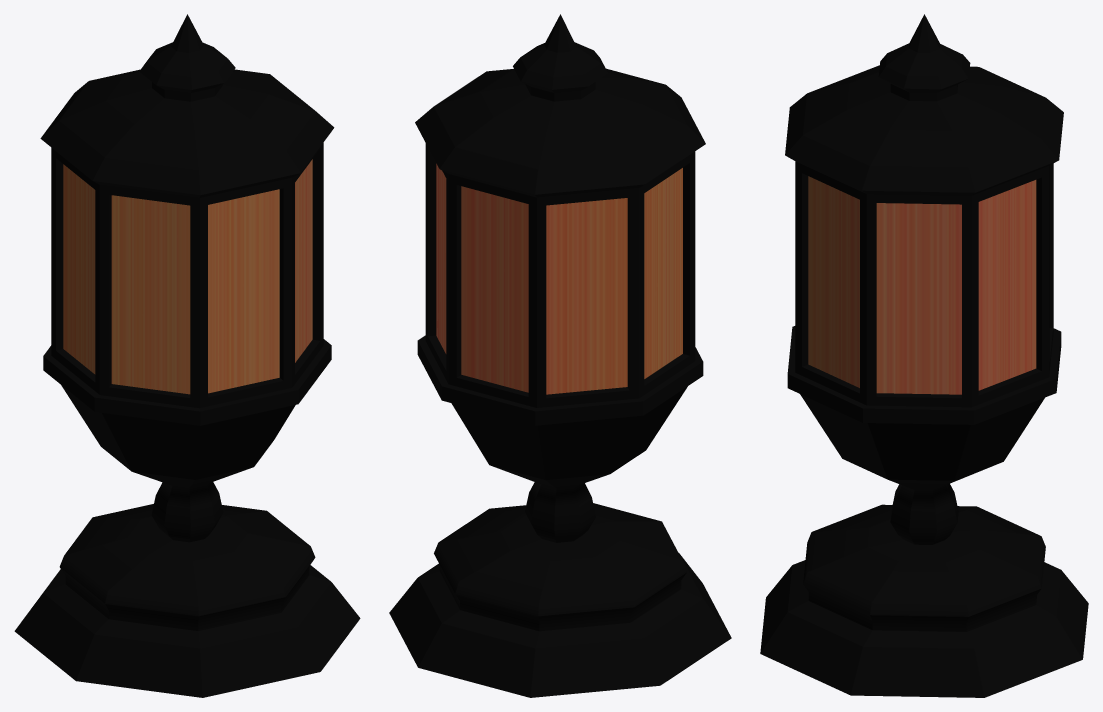
File: Spooky_Tower_Lantern_Art.glb
3 views of the same model, side by side, from view 1: azimuth 30°, elevation 25°; view 2: azimuth 150°, elevation 25°; view 3: azimuth 270°, elevation 25° (orthographic).
Visible parts, largest first — view 1: Spooky_Tower_Lantern_Art; view 2: Spooky_Tower_Lantern_Art; view 3: Spooky_Tower_Lantern_Art.
Boxes of the visible parts, <box> form: Spooky_Tower_Lantern_Art: <box>14,14,360,697</box>; Spooky_Tower_Lantern_Art: <box>389,14,731,697</box>; Spooky_Tower_Lantern_Art: <box>760,14,1088,697</box>.
Bounding box in the file's own units: 0.1942 × 0.401 × 0.1942.
2 materials, 2 textured.
